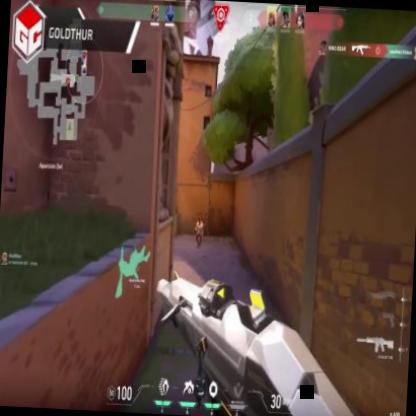enemy: (193, 214, 204, 250)
enemy_head: (198, 218, 200, 224)
